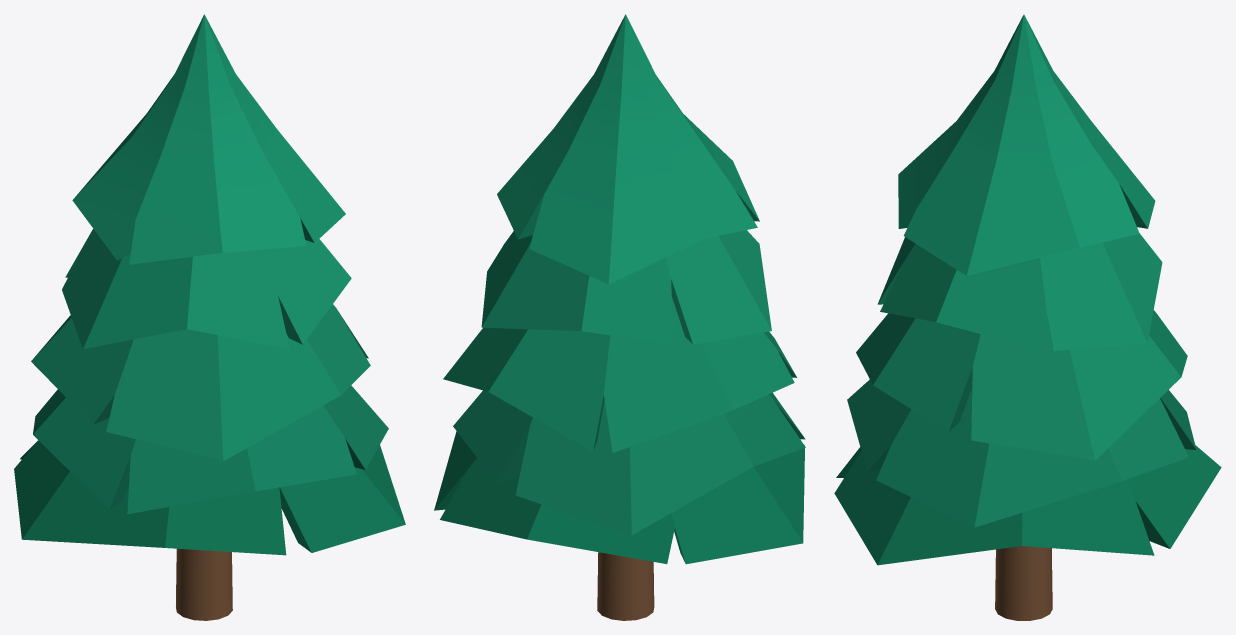
Rendered from Spruce_Turquoise_Thick_3.fbx.
3 renders of one model, left to right at view 1: azimuth 30°, elevation 25°; view 2: azimuth 150°, elevation 25°; view 3: azimuth 270°, elevation 25°, orthographic.
Visible parts, largest first — view 1: Cylinder.1082, Cylinder.1083, Cylinder.1084, Cylinder.1086, Cylinder.1085, Cylinder.1087; view 2: Cylinder.1082, Cylinder.1083, Cylinder.1085, Cylinder.1084, Cylinder.1086, Cylinder.1087; view 3: Cylinder.1082, Cylinder.1083, Cylinder.1085, Cylinder.1084, Cylinder.1086, Cylinder.1087.
Part boxes in pixels (x1=…): Cylinder.1082: x1=72, y1=14, x2=345, y2=264; Cylinder.1083: x1=31, y1=304, x2=370, y2=461; Cylinder.1084: x1=62, y1=229, x2=351, y2=349; Cylinder.1086: x1=14, y1=440, x2=405, y2=555; Cylinder.1085: x1=33, y1=385, x2=388, y2=514; Cylinder.1087: x1=176, y1=548, x2=232, y2=620; Cylinder.1082: x1=497, y1=14, x2=759, y2=284; Cylinder.1083: x1=443, y1=296, x2=796, y2=452; Cylinder.1085: x1=453, y1=390, x2=805, y2=535; Cylinder.1084: x1=481, y1=230, x2=771, y2=344; Cylinder.1086: x1=434, y1=431, x2=804, y2=564; Cylinder.1087: x1=597, y1=552, x2=654, y2=620; Cylinder.1082: x1=898, y1=14, x2=1155, y2=275; Cylinder.1083: x1=856, y1=310, x2=1187, y2=460; Cylinder.1085: x1=847, y1=379, x2=1196, y2=527; Cylinder.1084: x1=877, y1=233, x2=1162, y2=351; Cylinder.1086: x1=834, y1=445, x2=1221, y2=565; Cylinder.1087: x1=995, y1=546, x2=1052, y2=620.
Bounding box in the file's own units: 347 × 567 × 334.
